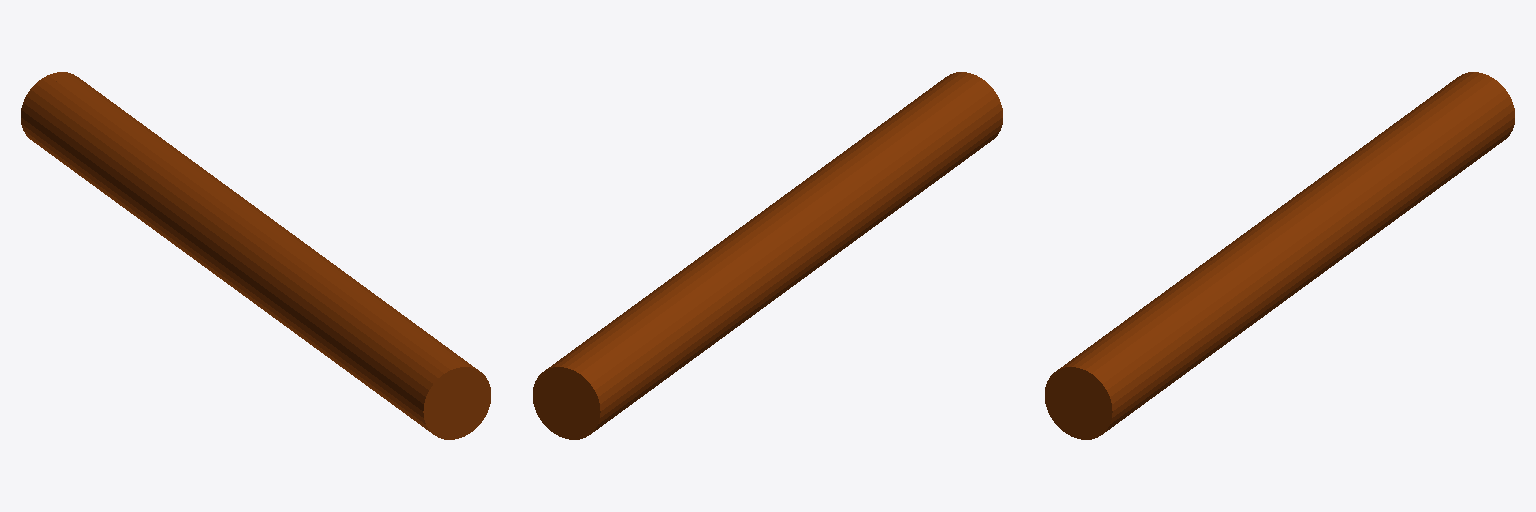
URDF robot description (cylinder):
<?xml version="1.0" ?>
<!-- =================================================================================== -->
<!-- |    This document was autogenerated by xacro from cylinder.xacro                 | -->
<!-- |    EDITING THIS FILE BY HAND IS NOT RECOMMENDED                                 | -->
<!-- =================================================================================== -->
<robot name="cylinder">
  <link name="world"/>
  <link name="base">
    <visual>
      <origin rpy="1.57079633 0 0" xyz="0 0 0"/>
      <geometry>
        <cylinder length="7.07106781185" radius="0.345"/>
      </geometry>
      <material name="cylinder_material">
        <color rgba="0.545 0.271 0.075 1.0"/>
        <texture filename="../textures/tree_bark.jpg"/>
      </material>
    </visual>
    <collision>
      <origin rpy="1.57079633 0 0" xyz="0 0 0"/>
      <geometry>
        <cylinder length="7.07106781185" radius="0.345"/>
      </geometry>
    </collision>
    <inertial>
      <origin rpy="0 0 0" xyz="0 0 0"/>
      <mass value="1"/>
      <inertia ixx="4.196422916648428" ixy="0.0" ixz="0.0" iyy="4.196422916648428" iyz="0.0" izz="24.999999999890573"/>
    </inertial>
  </link>
  <joint name="base_joint" type="fixed">
    <parent link="world"/>
    <child link="base"/>
    <origin rpy="0 0 0" xyz="0.0 0.0 0.0"/>
  </joint>
</robot>

--- Facts derived from the render (not from the file) ---
The picture shows the robot from 3 angles, left to right: view 1: azimuth 30°, elevation 25°; view 2: azimuth 150°, elevation 25°; view 3: azimuth 330°, elevation 25°; orthographic projection.
Robot: cylinder — 2 links, 1 joints (1 fixed); root link world; default pose: all joints at 0.
Visible links, largest first — view 1: base; view 2: base; view 3: base.
Boxes of the visible links, x1,y1,x2,y2 form: base: (21,72,490,439); base: (533,72,1002,439); base: (1045,72,1514,439).
Bounding box of the posed robot: 0.69 × 7.07 × 0.69 m (x, y, z).
Geometry: primitives only (box / cylinder / sphere), no mesh files.
